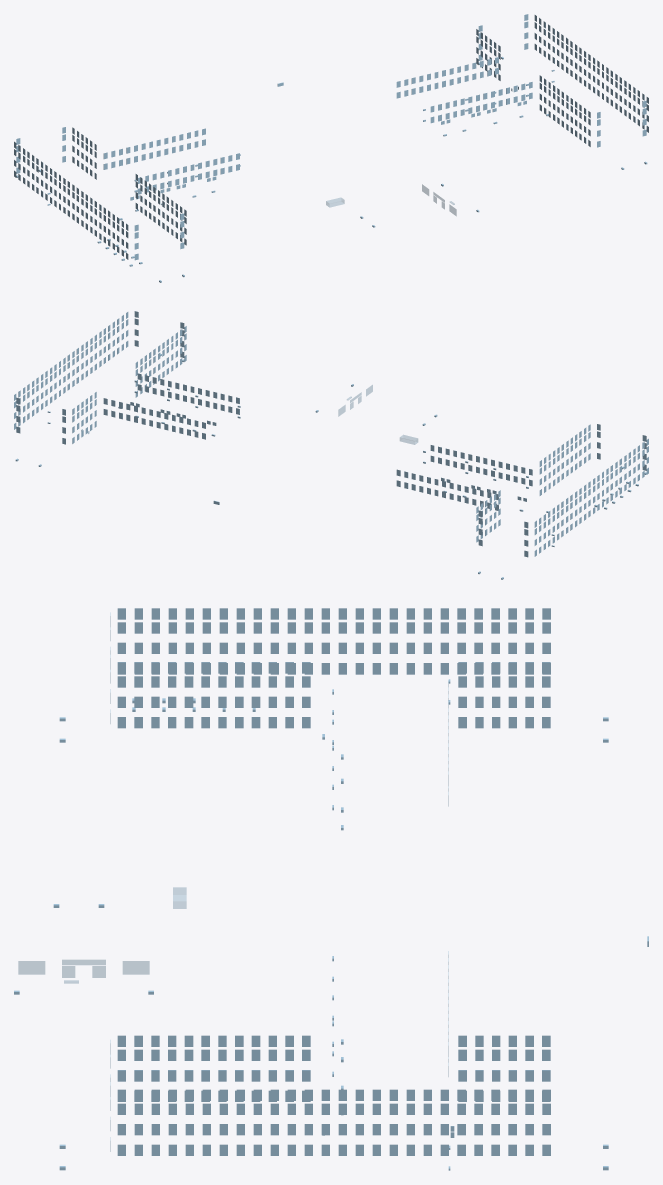
The model's file is SM_Academy_Interior_Glass.fbx.
The picture shows the model from 3 angles, top to bottom: view 1: azimuth 30°, elevation 25°; view 2: azimuth 150°, elevation 25°; view 3: azimuth 270°, elevation 25°; orthographic projection. The views are drawn at different scales.
Parts seen in each view (by area): view 1: SM_Academy_Interior_Glass; view 2: SM_Academy_Interior_Glass; view 3: SM_Academy_Interior_Glass.
Part boxes in pixels (x1,y1,x2,y2): SM_Academy_Interior_Glass: (14, 14, 648, 282); SM_Academy_Interior_Glass: (14, 311, 648, 579); SM_Academy_Interior_Glass: (14, 608, 648, 1170).
Size of the model in its own units: 228 by 21.2 by 127.
